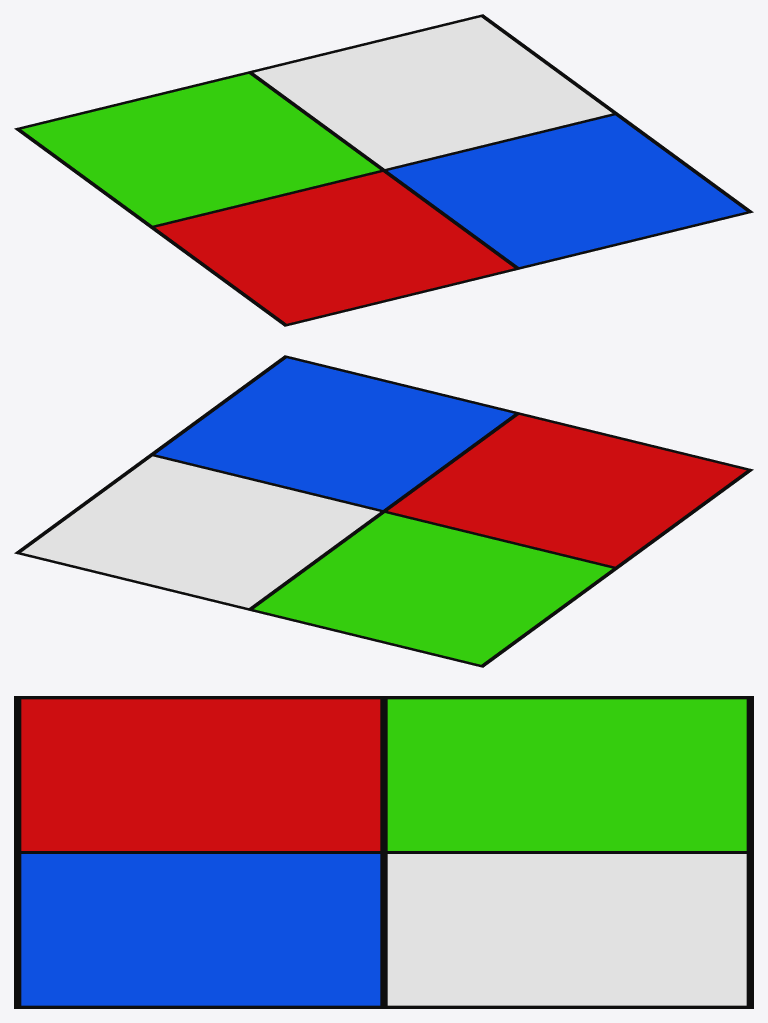
File: VideoCanvas.fbx
3 renders of one model, top to bottom at view 1: azimuth 30°, elevation 25°; view 2: azimuth 150°, elevation 25°; view 3: azimuth 270°, elevation 25°, orthographic. The views are drawn at different scales.
Visible parts, largest first — view 1: Plane; view 2: Plane; view 3: Plane.
Boxes of the visible parts, x1,y1,x2,y2 form: Plane: [14, 14, 753, 326]; Plane: [14, 355, 753, 667]; Plane: [14, 696, 753, 1008].
Bounding box in the file's own units: 204 × 3.32e-05 × 204.
